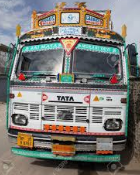truck: (2, 2, 138, 170)
